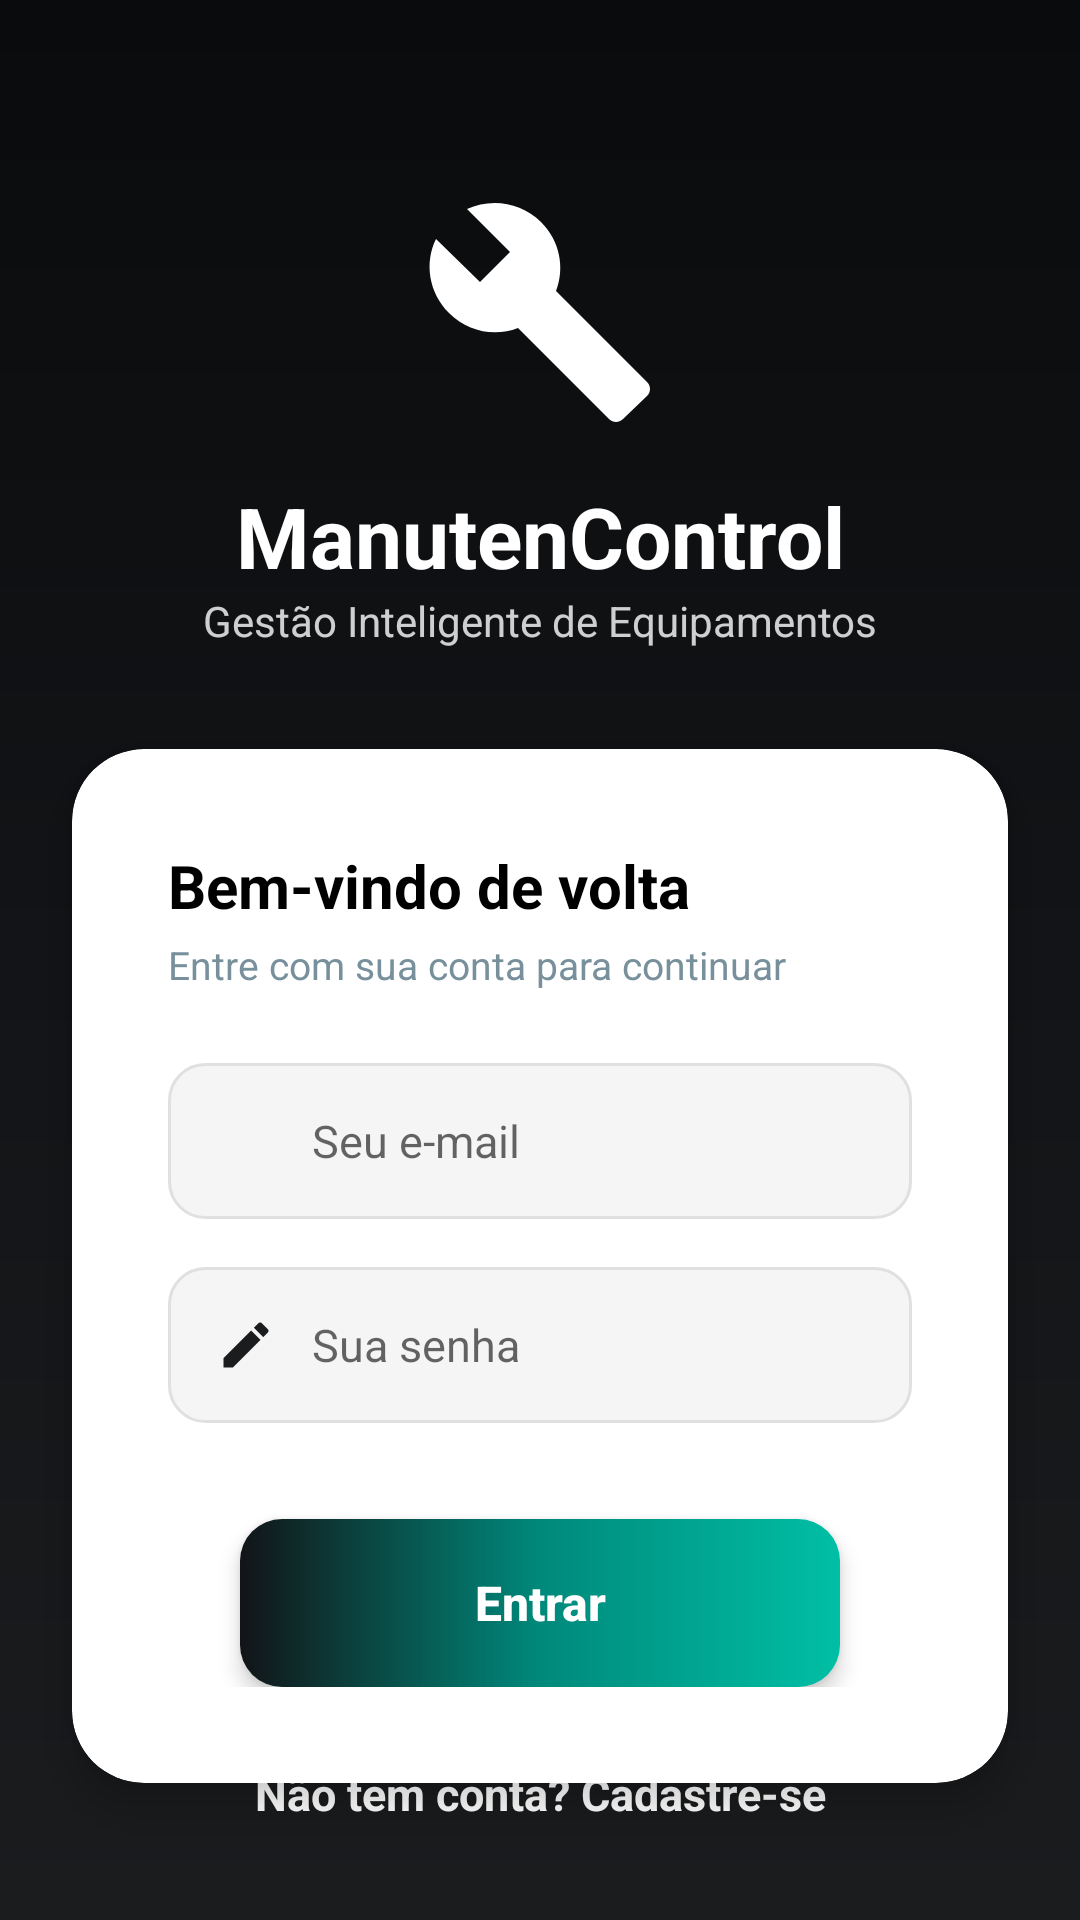

Named icons in this screenshot (1080×1920) and their centers, [x,y]:
edit: [246,1345]
wrench: [539,312]
